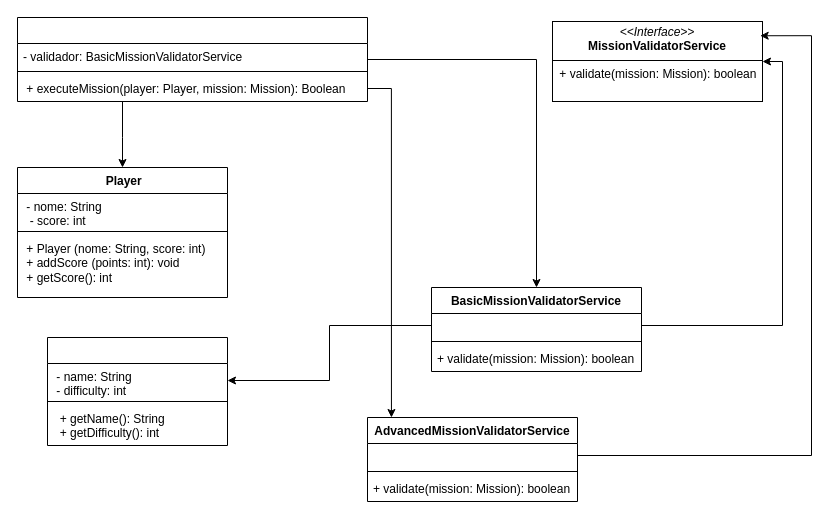
Image size: 837x522. Some labels were removed from this diagram. The shapes that lost their labels are listed below. From the top down, each one's box as (x1, y1, x2, y2) in pixels, then its label:
(16, 16, 368, 102): GameEngine
(46, 336, 228, 446): Mission
